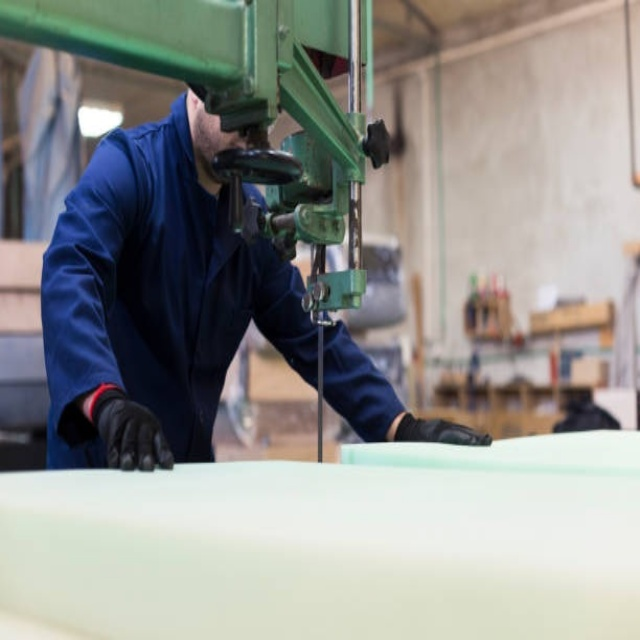Guantes: (91, 387, 176, 471), (393, 413, 492, 447)
